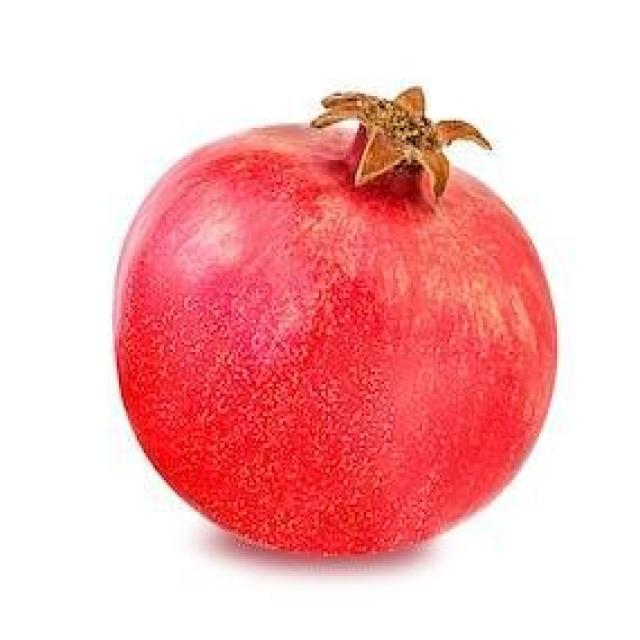Pomegranate: (109, 81, 560, 558)
